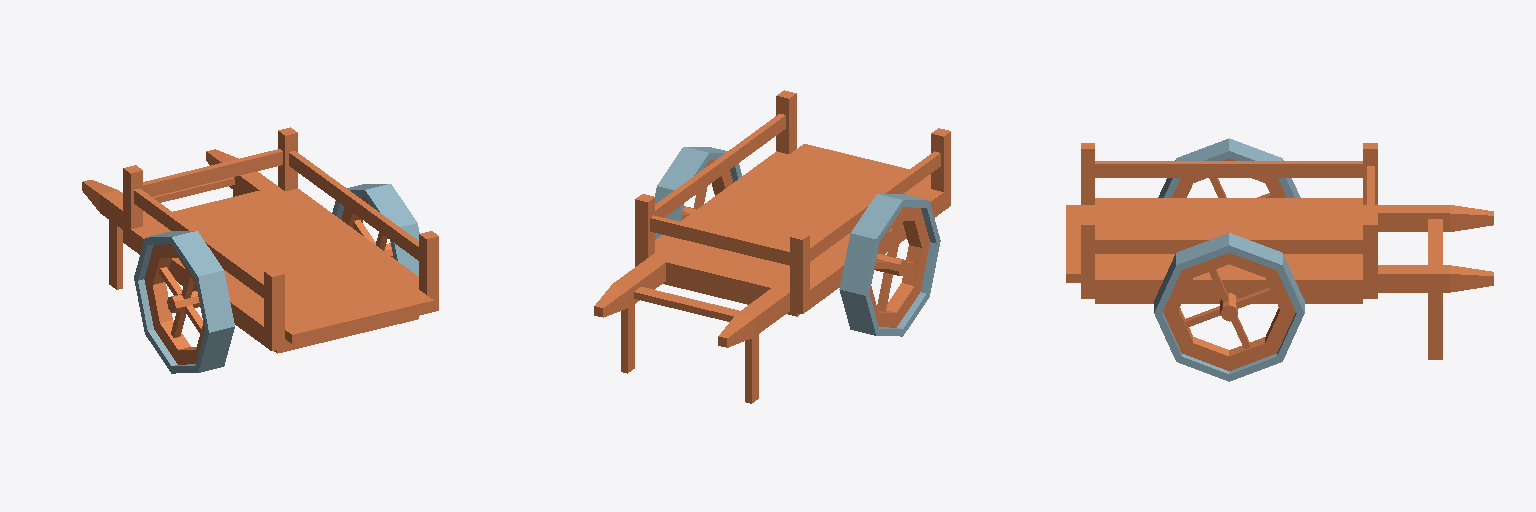
File: cart.obj
3 views of the same model, side by side, from view 1: azimuth 30°, elevation 25°; view 2: azimuth 150°, elevation 25°; view 3: azimuth 270°, elevation 25° (orthographic).
Visible parts, largest first — view 1: cart, wheel; view 2: cart, wheel; view 3: cart, wheel.
Part boxes in pixels (x1,y1,x2,y2): cart: (82,127,438,353); wheel: (134,184,419,373); cart: (594,90,950,403); wheel: (655,147,940,336); cart: (1066,143,1493,359); wheel: (1154,138,1304,381).
Size of the model in its own units: 0.852 by 0.536 by 1.44.